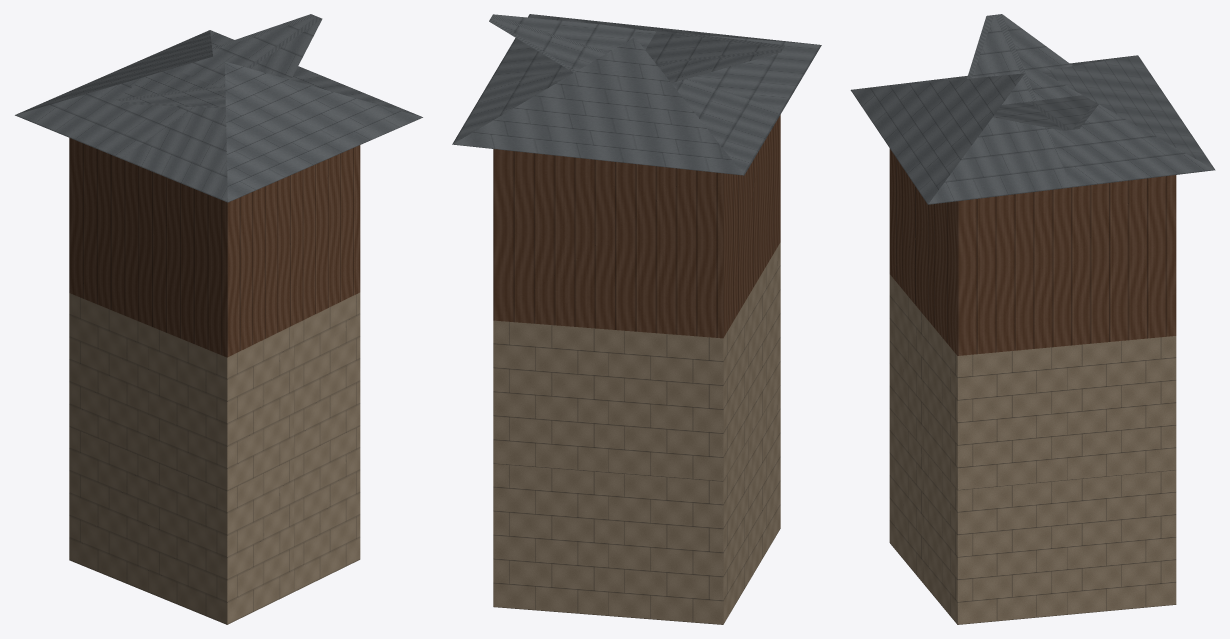
The model's file is bld_c34_45_238.gltf.
3 views of the same model, side by side, from view 1: azimuth 30°, elevation 25°; view 2: azimuth 150°, elevation 25°; view 3: azimuth 270°, elevation 25° (orthographic). The views are drawn at different scales.
Visible parts, largest first — view 1: bld_c34_45_238; view 2: bld_c34_45_238; view 3: bld_c34_45_238.
Part boxes in pixels (bbox=[...]): bld_c34_45_238: bbox=[15, 14, 422, 624]; bld_c34_45_238: bbox=[452, 14, 821, 624]; bld_c34_45_238: bbox=[850, 14, 1215, 624].
Size of the model in its own units: 5.56 by 8.7 by 5.74.
3 materials, 3 textured.
